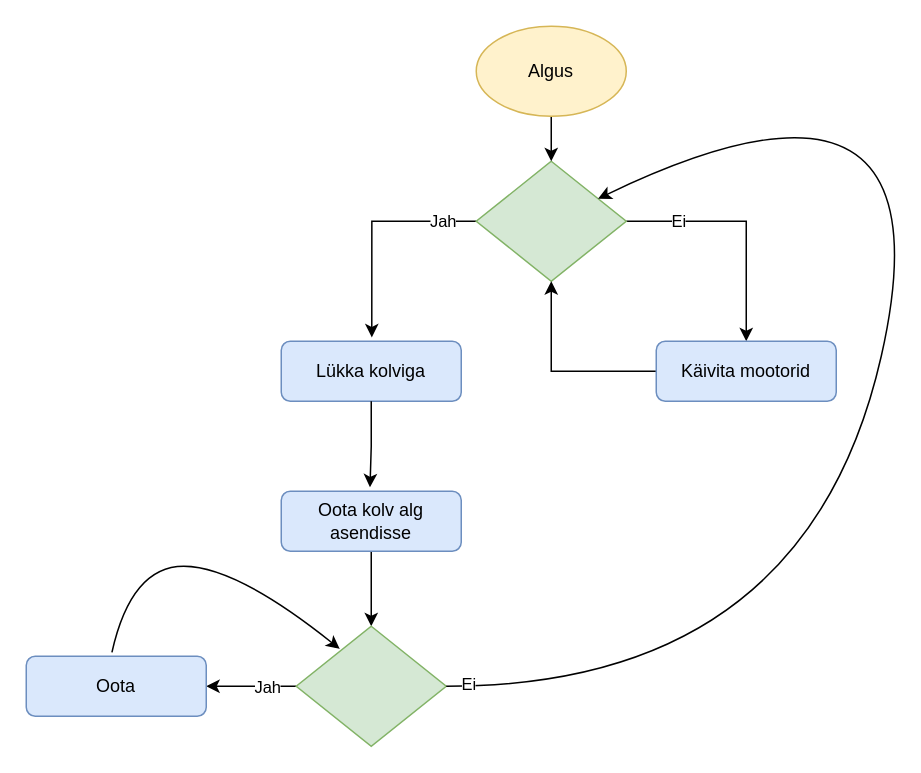
This 921x773 diagram has some shape labels left out. Here are the shapes that lost their labels. From the top down, the box of each, then its label:
(475, 160, 626, 281): Kas Andur-1 ja Andur-2 on detail?
(295, 625, 446, 746): Kas Andur-3 on detail?
